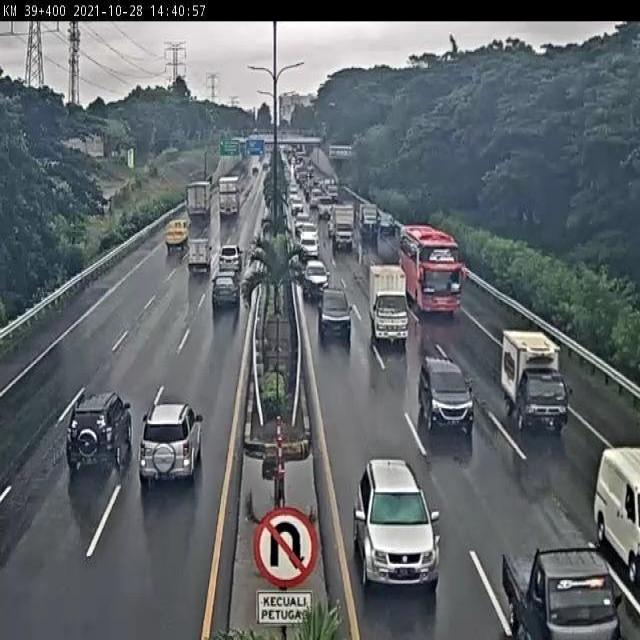big bus: (398, 225, 464, 318)
car: (352, 459, 442, 592), (137, 402, 205, 489), (65, 391, 133, 473), (417, 357, 475, 432), (317, 287, 352, 336), (210, 269, 242, 312), (302, 258, 329, 298), (217, 241, 243, 272)
mid truck: (366, 266, 411, 346)
small truck: (502, 332, 570, 436), (184, 236, 212, 273)
